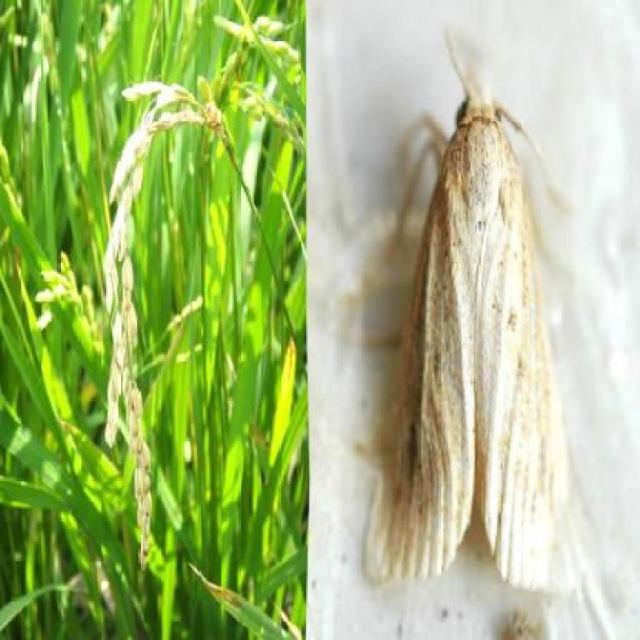stem-borer: (368, 75, 577, 587)
